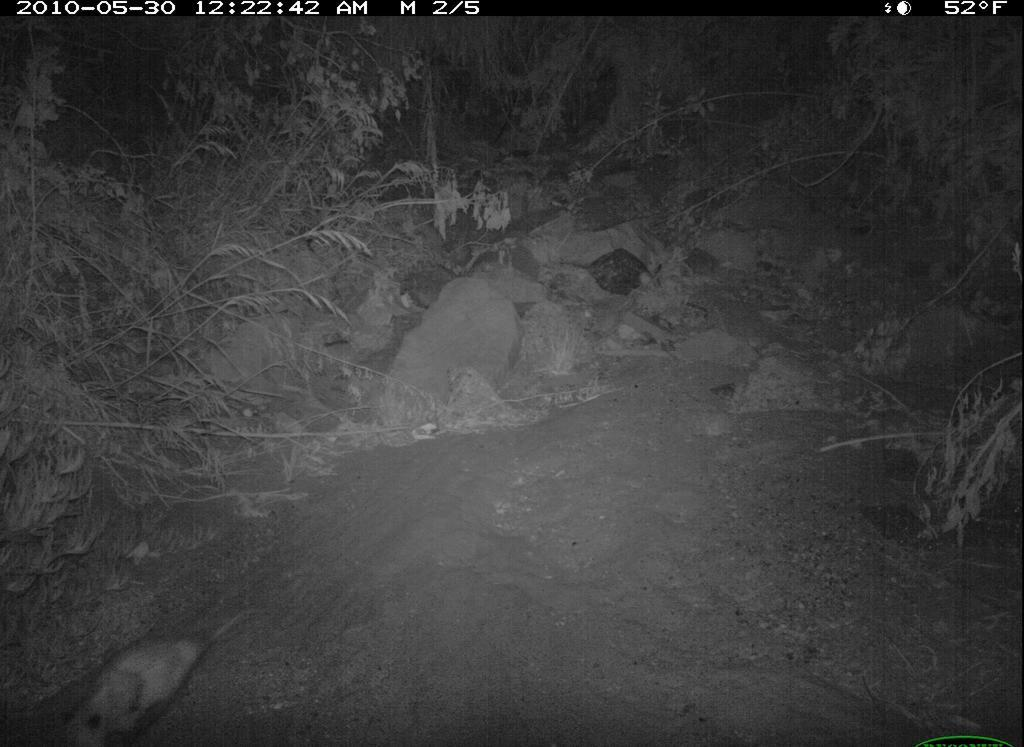opossum: (40, 605, 240, 744)
